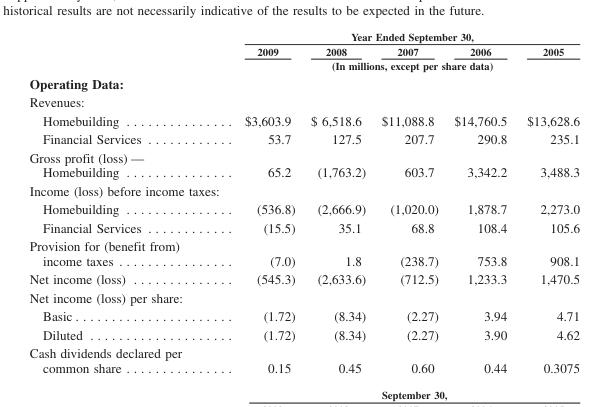table: (28, 28, 579, 375)
table column: (28, 28, 212, 375), (212, 28, 302, 375), (372, 28, 445, 375), (445, 28, 516, 375), (302, 28, 372, 375), (516, 28, 579, 375)
table column header: (28, 28, 579, 73)
table projected row header: (28, 73, 579, 92), (28, 287, 579, 306), (28, 92, 579, 110), (28, 180, 579, 198)
table row: (28, 147, 579, 180), (28, 235, 579, 268), (28, 343, 579, 375), (28, 73, 579, 92), (28, 128, 579, 147), (28, 198, 579, 217), (28, 268, 579, 287), (28, 287, 579, 306), (28, 324, 579, 343), (28, 92, 579, 110), (28, 110, 579, 128), (28, 180, 579, 198), (28, 217, 579, 235), (28, 306, 579, 324), (28, 28, 579, 43), (28, 43, 579, 58), (28, 58, 579, 73)
table spanning cell: (212, 28, 579, 43), (212, 58, 579, 73)
